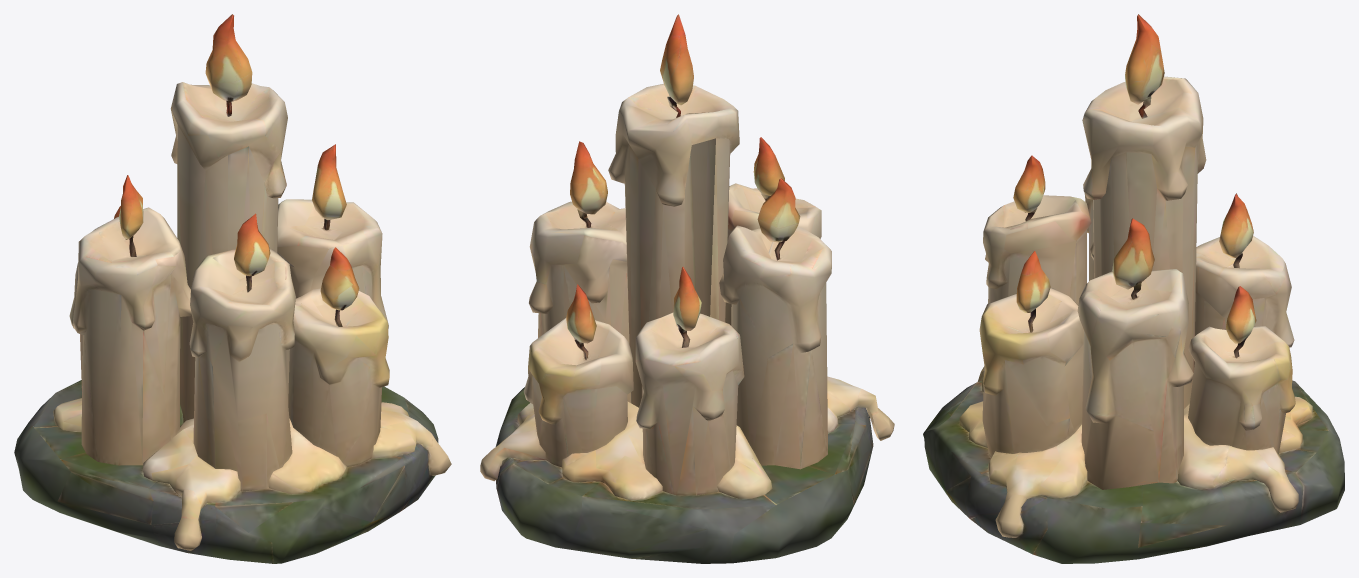
File: light-candles.glb
3 views of the same model, side by side, from view 1: azimuth 30°, elevation 25°; view 2: azimuth 150°, elevation 25°; view 3: azimuth 270°, elevation 25° (orthographic).
Size of the model in its own units: 0.7906 by 1 by 0.8153.
Materials: 1 (1 with a texture image).
